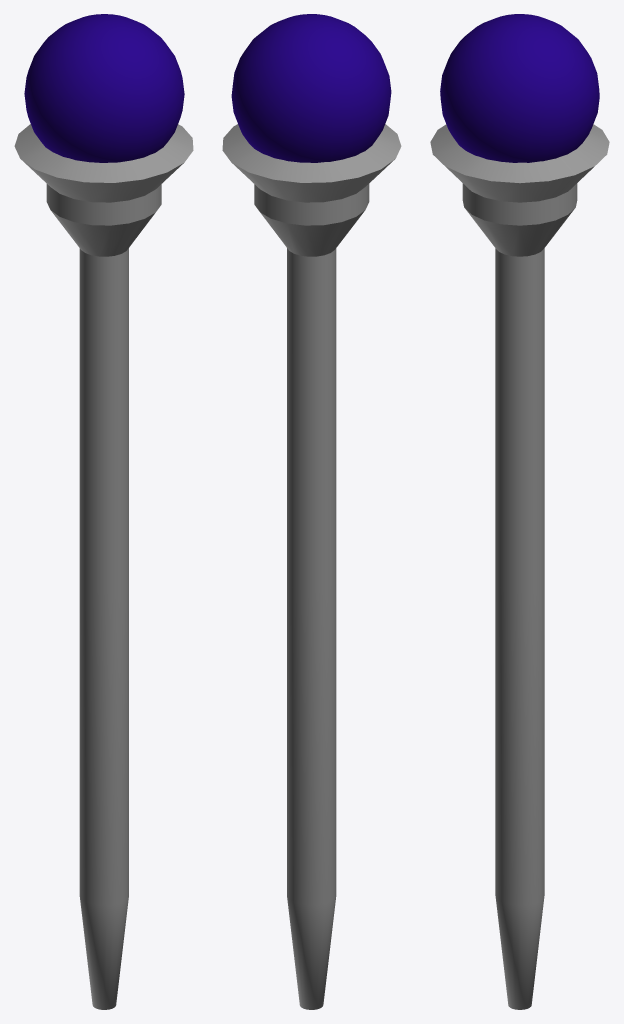
File: Treasure.FBX
3 views of the same model, side by side, from view 1: azimuth 30°, elevation 25°; view 2: azimuth 150°, elevation 25°; view 3: azimuth 270°, elevation 25° (orthographic).
Parts seen in each view (by area): view 1: Cylinder005; view 2: Cylinder005; view 3: Cylinder005.
Boxes of the visible parts, box(x1,y1,x2,y2) form: Cylinder005: box(14, 14, 193, 1009); Cylinder005: box(222, 14, 401, 1009); Cylinder005: box(430, 14, 609, 1009).
Bounding box in the file's own units: 7.55 × 45.88 × 7.58.
